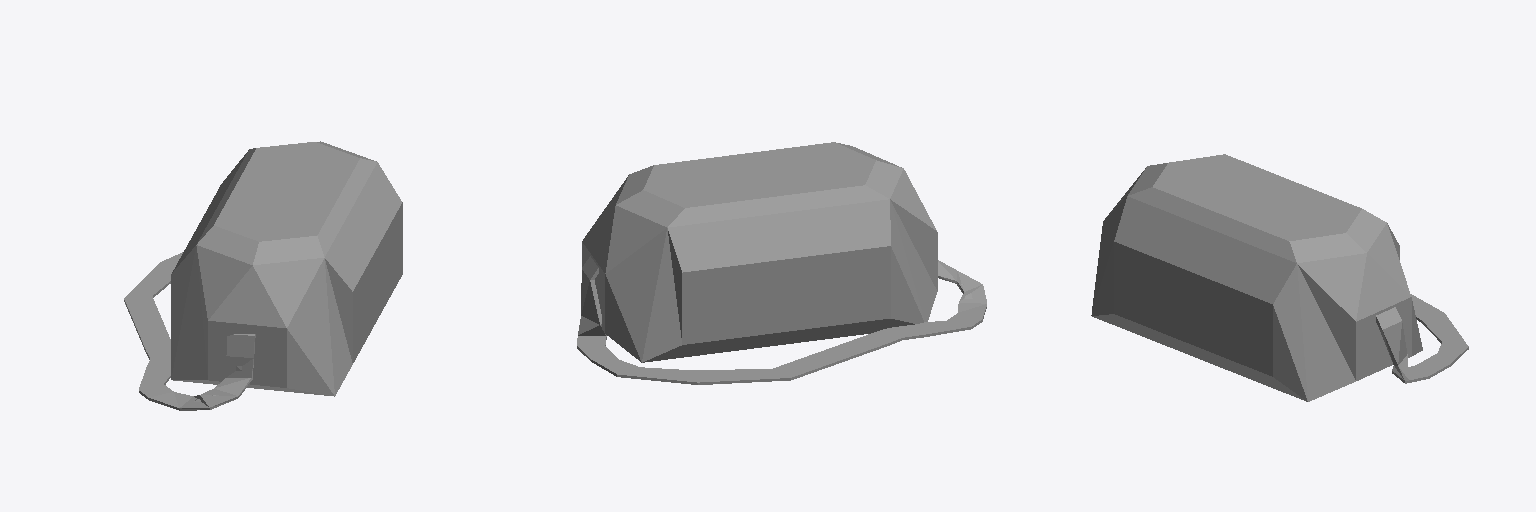
The model's file is bag.obj.
The picture shows the model from 3 angles: view 1: azimuth 30°, elevation 25°; view 2: azimuth 150°, elevation 25°; view 3: azimuth 270°, elevation 25°; orthographic projection.
Parts seen in each view (by area): view 1: Cube.003; view 2: Cube.003; view 3: Cube.003.
Boxes of the visible parts, x1,y1,x2,y2 form: Cube.003: [124, 141, 402, 410]; Cube.003: [577, 142, 986, 384]; Cube.003: [1091, 154, 1468, 401].
Size of the model in its own units: 3.73 by 1.5 by 3.79.